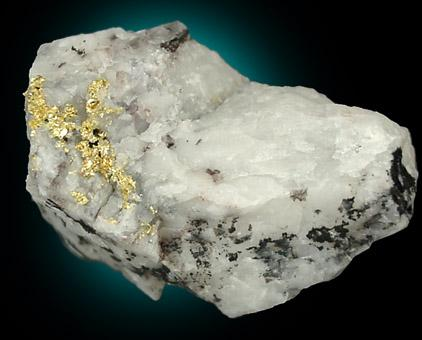gold: (24, 22, 419, 318), (25, 75, 140, 210), (24, 78, 141, 210), (25, 78, 140, 208), (24, 78, 136, 208), (75, 78, 141, 210), (24, 78, 77, 154), (135, 222, 156, 242), (138, 223, 156, 240), (138, 224, 156, 238), (72, 192, 88, 206)
